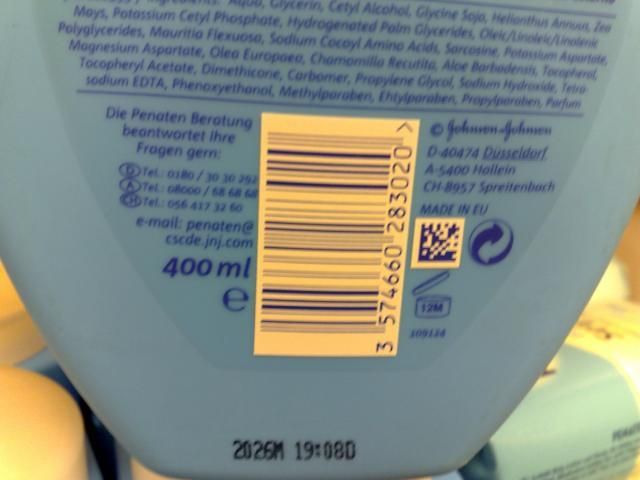Barcode: (253, 111, 419, 357)
